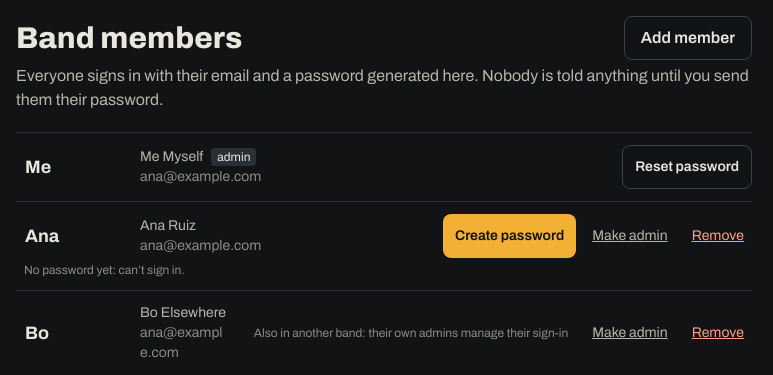
it: Members › removes someone after asking
Click the button "Remove" in the row of "Ana Ruiz".
click(718, 236)  # box [684,214,752,258]
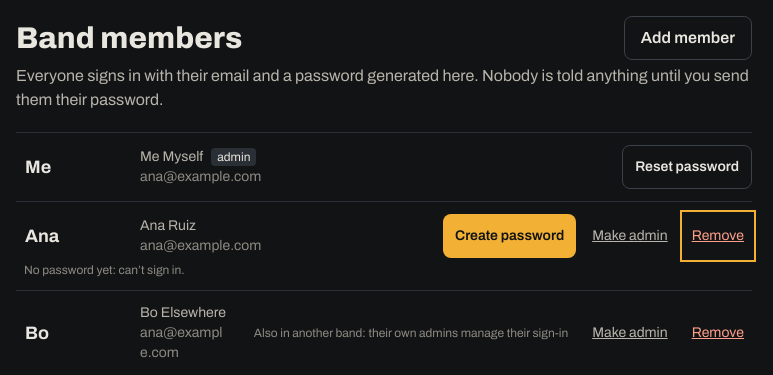
Click the button "Remove" in the row of "Ana Ruiz".
click(718, 236)  # box [684,214,752,258]
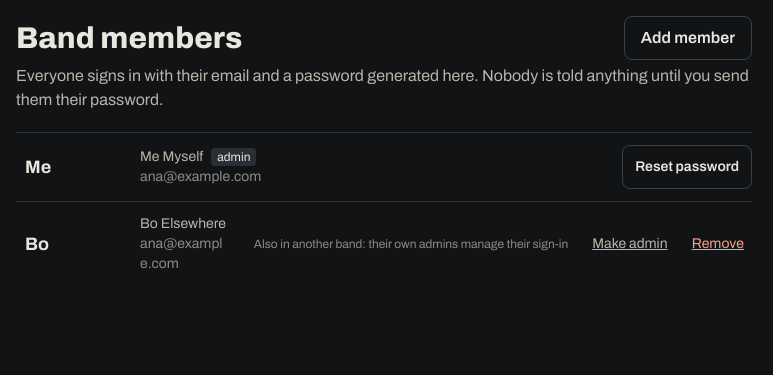
Expected: the text "Ana Ruiz" is gone
